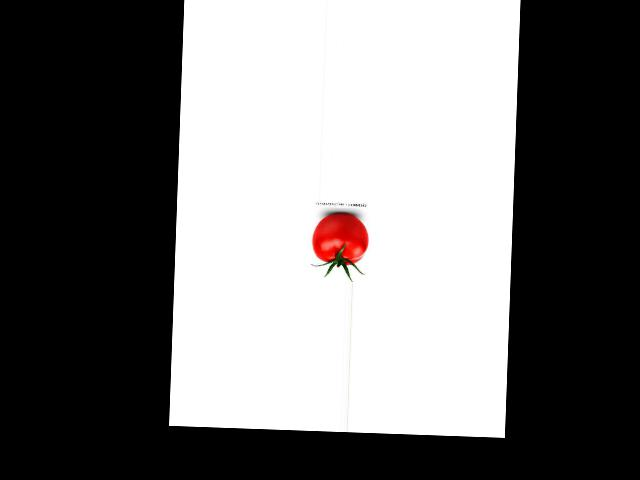tomato: (312, 213, 369, 265)
